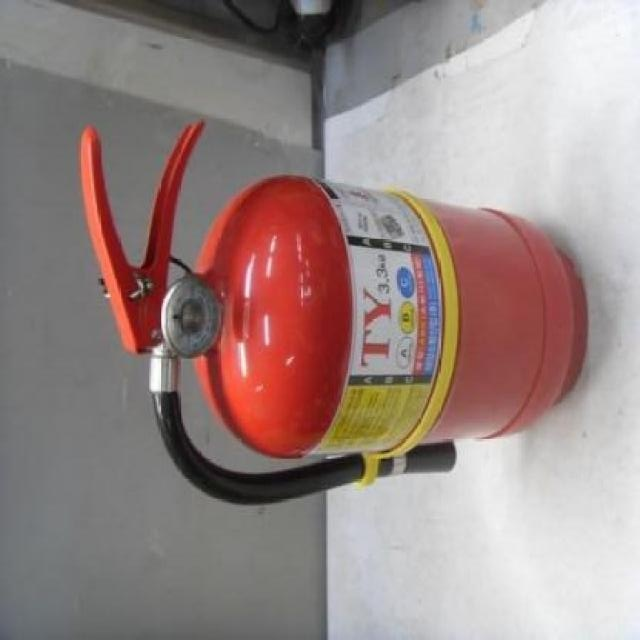fire extinguisher: (80, 121, 588, 507)
